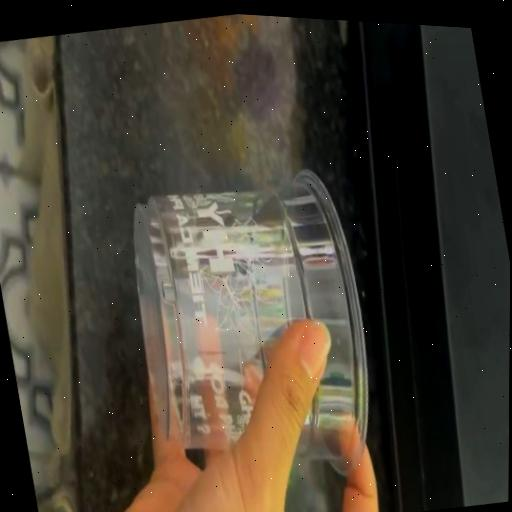ly_giay: (133, 171, 366, 474)
